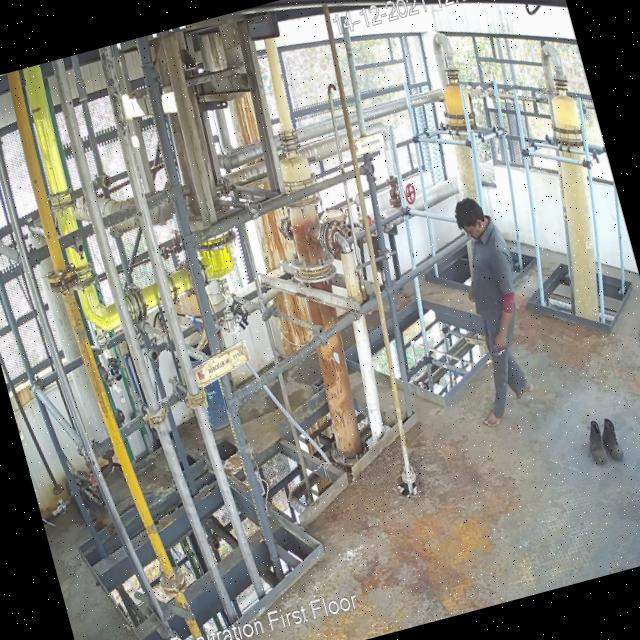boots: (580, 416, 614, 468), (598, 416, 627, 462)
no-boots: (480, 402, 506, 430)
